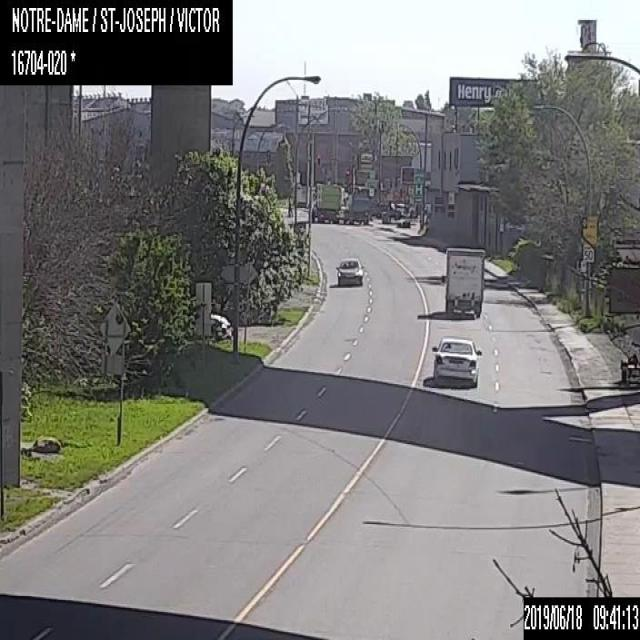construction: (606, 235, 639, 387)
vehicle: (441, 247, 484, 317), (431, 336, 481, 386), (311, 183, 341, 222), (341, 186, 368, 224), (335, 257, 364, 285), (210, 315, 228, 339)
